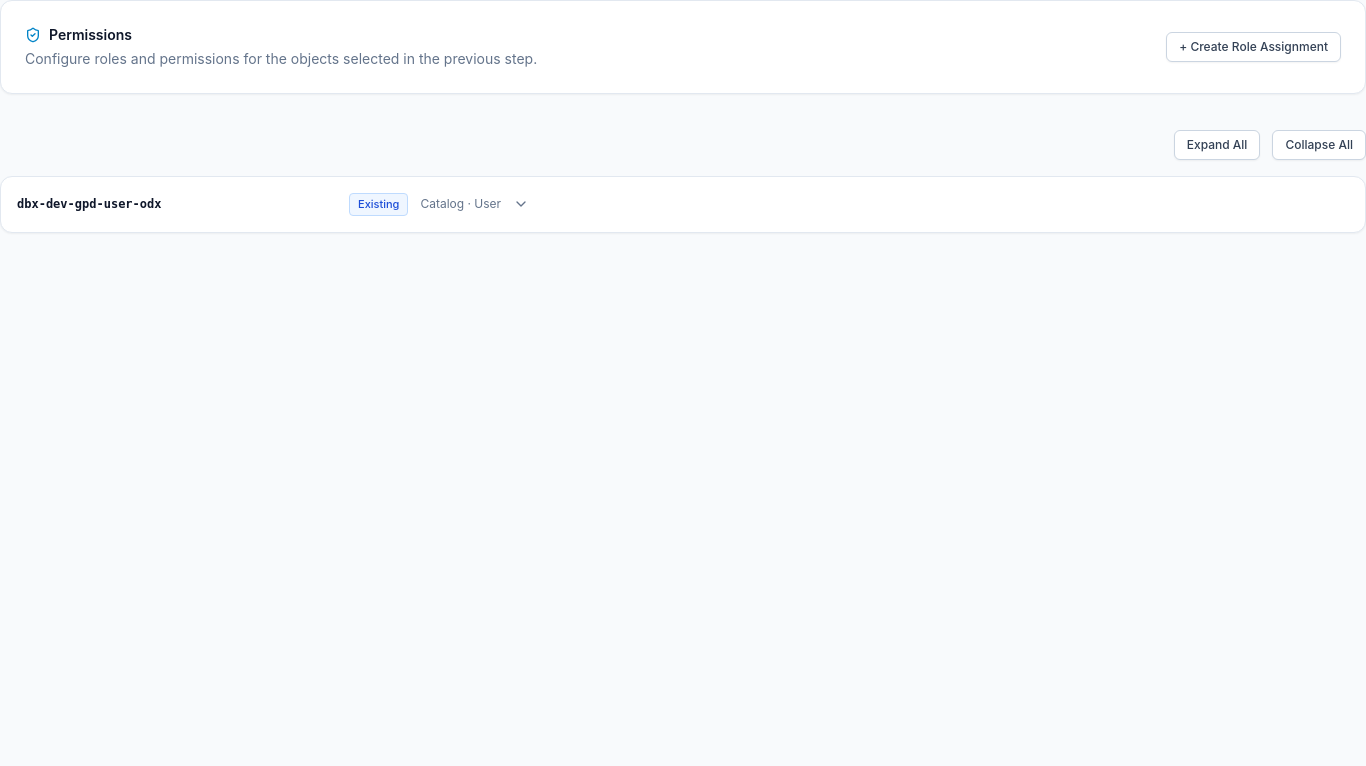
Test case: role assignment cards › starts existing cards collapsed and newly created cards expanded, with Expand All / Collapse All
Click the button "+ Create Role Assignment" at (1254, 47), box x1=1166 y1=32 x2=1341 y2=62
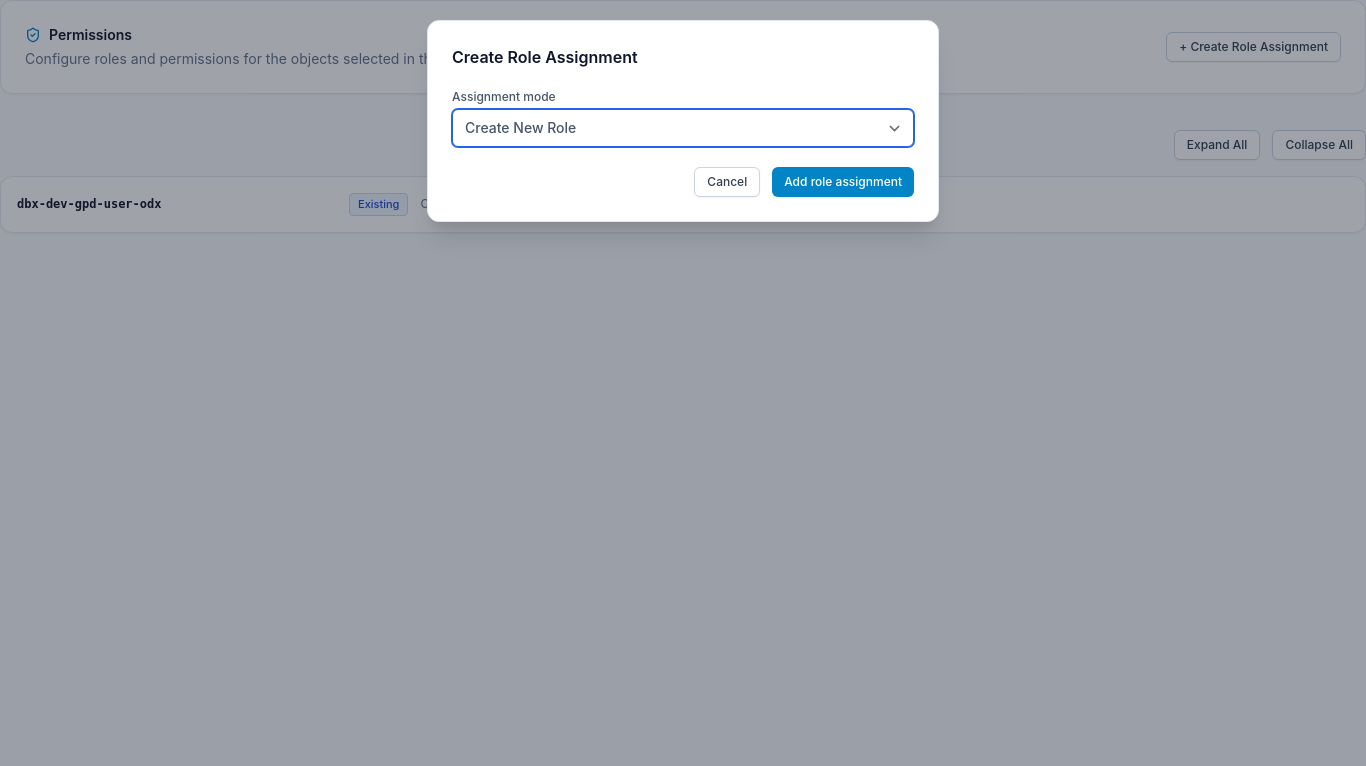
Click the button "Add role assignment" at (843, 182), box x1=772 y1=167 x2=914 y2=197
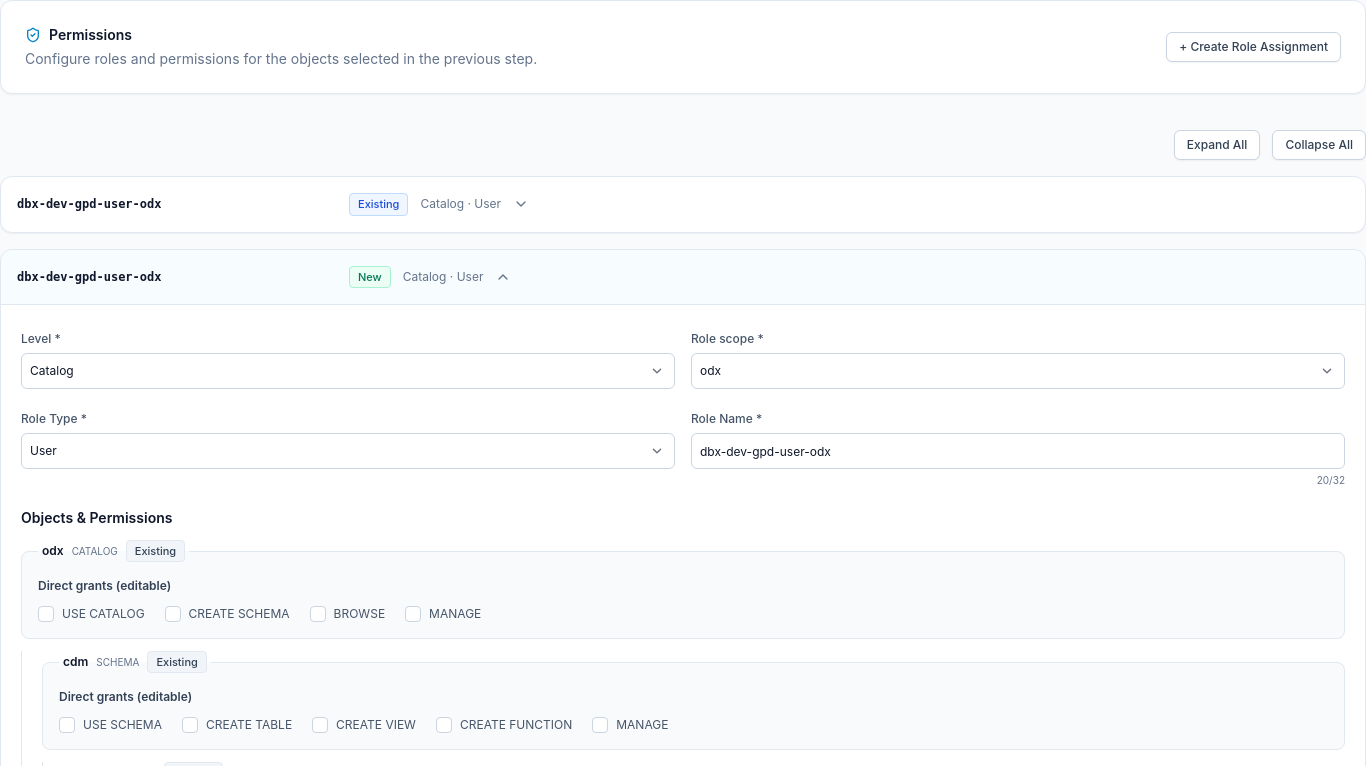
Expected: the field labelled "Role Name *" is shown, x1=691 y1=433 x2=1345 y2=469
Expected: the dropdown labelled "Role Type *" is shown, x1=21 y1=433 x2=675 y2=469
Click the button "Expand All" at (1217, 145), box x1=1174 y1=130 x2=1260 y2=160
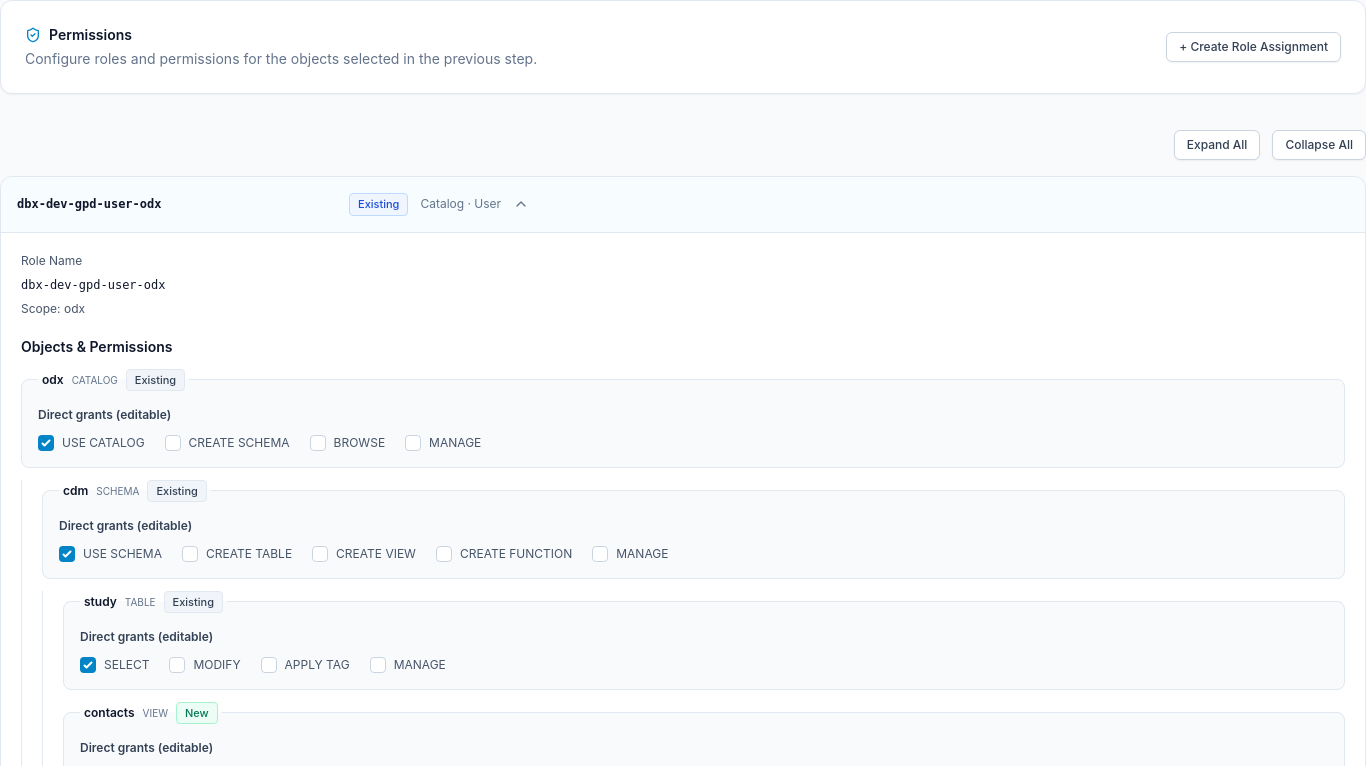
Click the button "Collapse All" at (1319, 145), box x1=1272 y1=130 x2=1365 y2=160
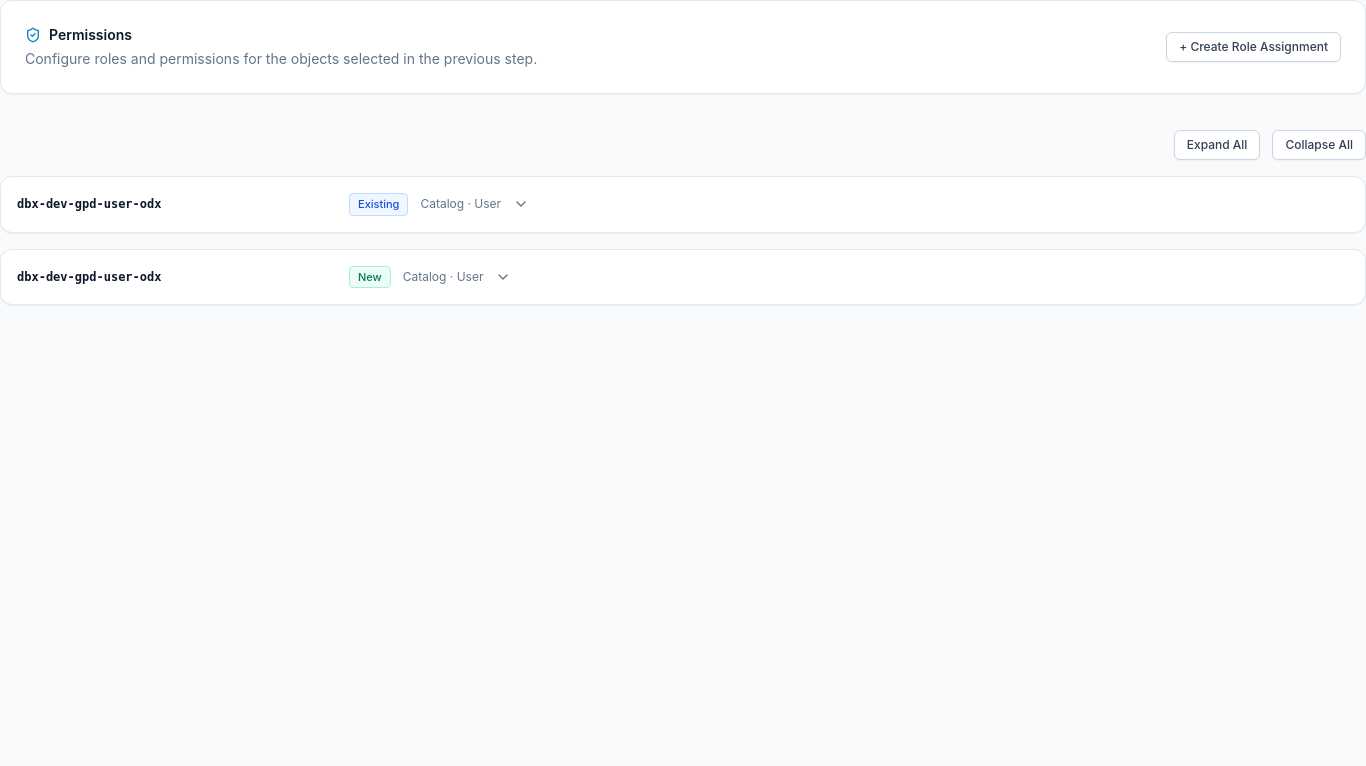
Expected: the checkbox is gone
Expected: the text "Role Name *" is gone
